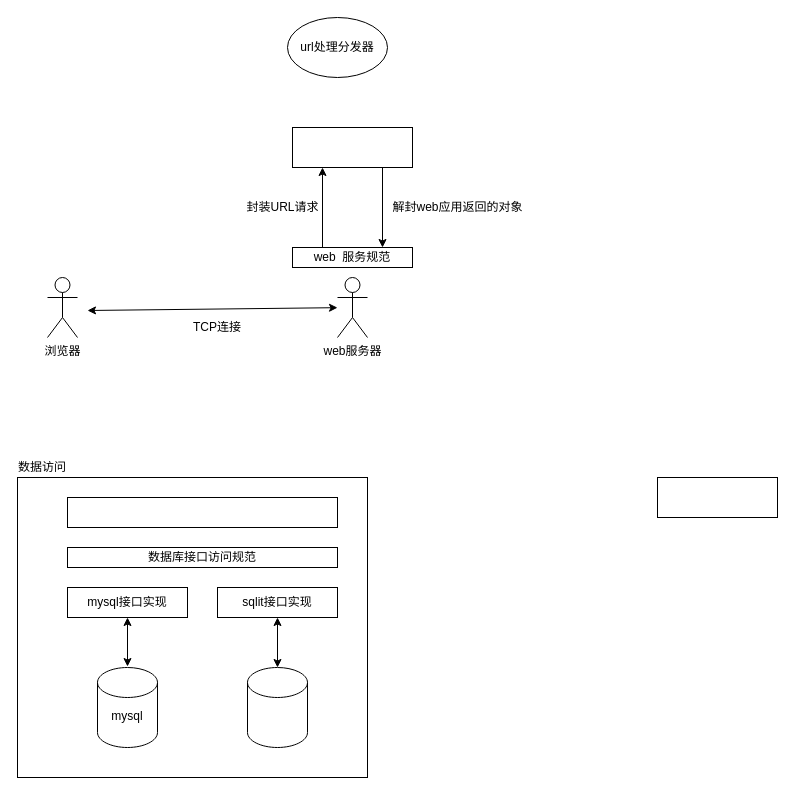
Image size: 795x795. Some labels were removed from this diagram. The shapes that lost their labels are listed below. From the top down, each one's box as (x1, y1, x2, y2) in pixels, then its label:
(292, 126, 412, 168): web应用
(66, 496, 338, 528): ORM
(656, 476, 778, 518): 模版引擎
(246, 666, 308, 748): split
